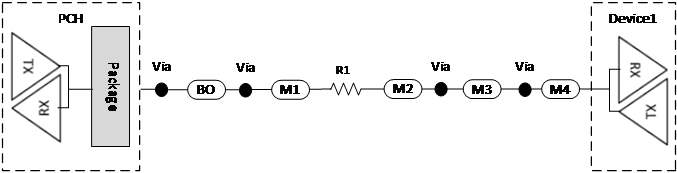circle: (515, 81, 536, 99), (152, 82, 170, 99), (433, 81, 451, 98), (239, 83, 254, 97)
dotted_rectangle: (2, 1, 144, 173), (588, 1, 677, 173)
oval: (382, 79, 425, 100), (461, 78, 503, 99), (187, 79, 227, 101), (270, 79, 311, 100), (543, 77, 578, 101)
rectangle: (92, 26, 130, 146)
resistor: (322, 76, 369, 105)
triangle: (9, 73, 65, 146), (618, 76, 670, 151), (9, 30, 64, 100), (617, 34, 668, 104)
